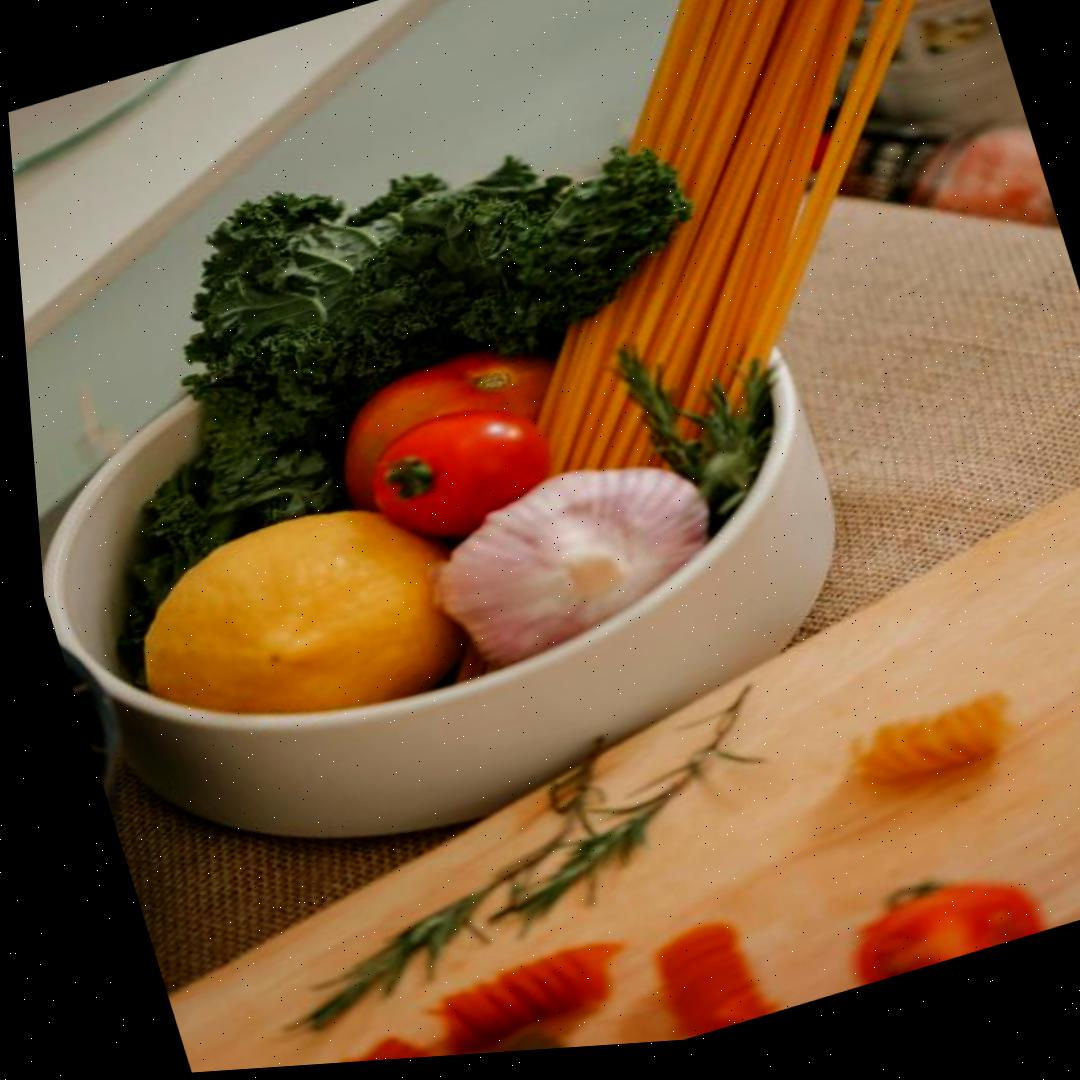matang: (352, 386, 568, 560)
